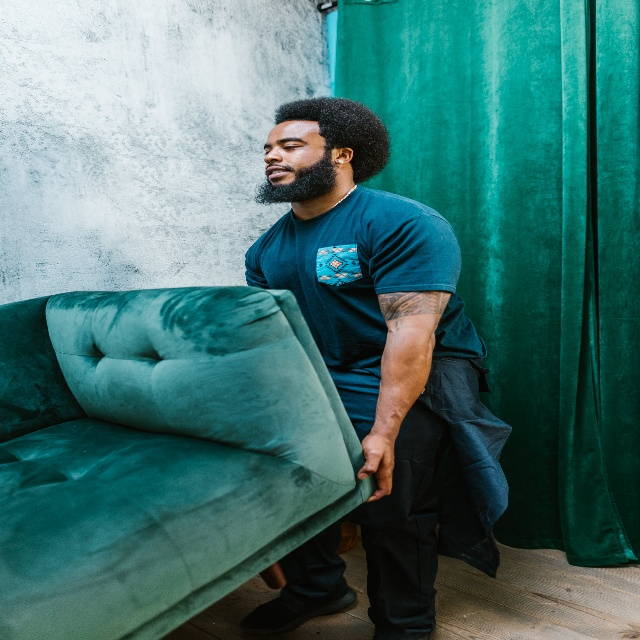Sin_guantes: (356, 433, 395, 499)
